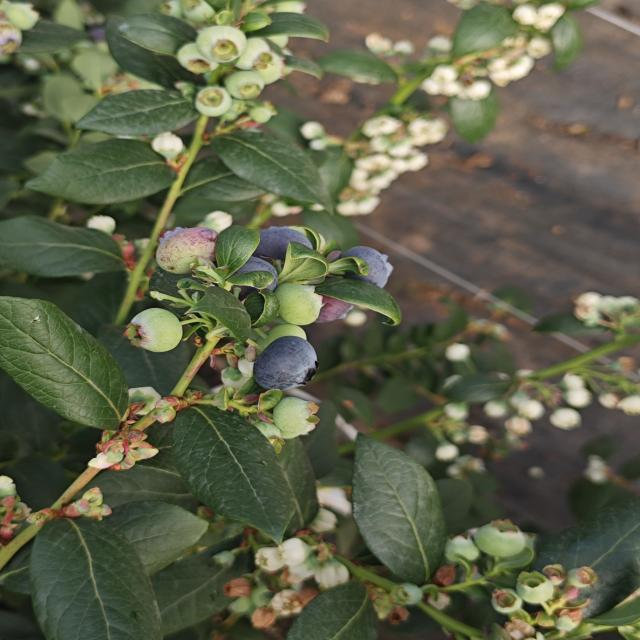ripe: (249, 334, 321, 393), (338, 244, 396, 290), (248, 225, 318, 262), (230, 255, 283, 297)
